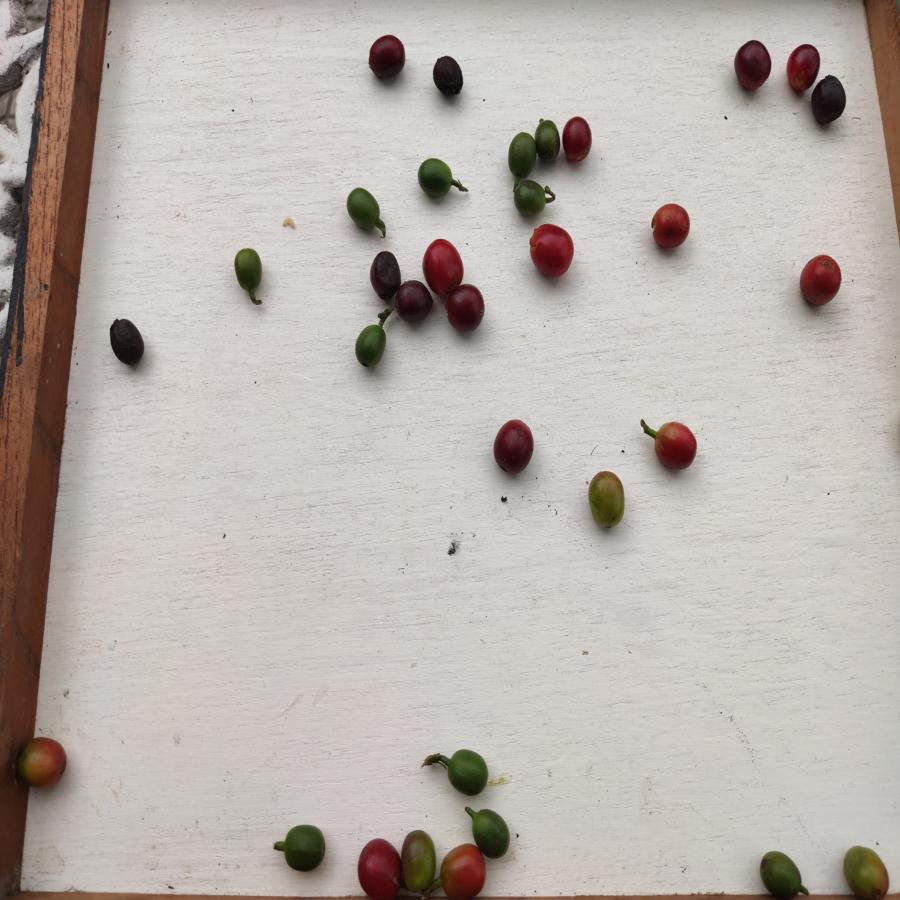Inmaduro: (756, 848, 811, 900), (444, 746, 491, 799), (281, 824, 328, 874), (470, 809, 511, 859), (345, 186, 381, 234), (231, 245, 264, 295), (417, 156, 453, 201), (506, 131, 537, 179), (354, 326, 390, 367), (514, 179, 549, 219), (535, 117, 560, 161)
Maduro: (356, 836, 401, 899), (528, 224, 576, 281), (654, 417, 701, 475), (799, 254, 843, 311), (420, 237, 466, 289), (649, 201, 691, 249), (561, 111, 596, 165)
Pinton: (17, 737, 73, 793), (842, 841, 892, 897), (586, 470, 629, 532), (400, 826, 436, 894), (441, 844, 484, 899)
Sobremaduro: (492, 418, 537, 472), (734, 38, 772, 95), (809, 74, 849, 126), (446, 284, 485, 336), (107, 317, 146, 366), (784, 42, 819, 94), (366, 35, 405, 80), (366, 249, 401, 299), (429, 56, 464, 96), (399, 281, 432, 323)
